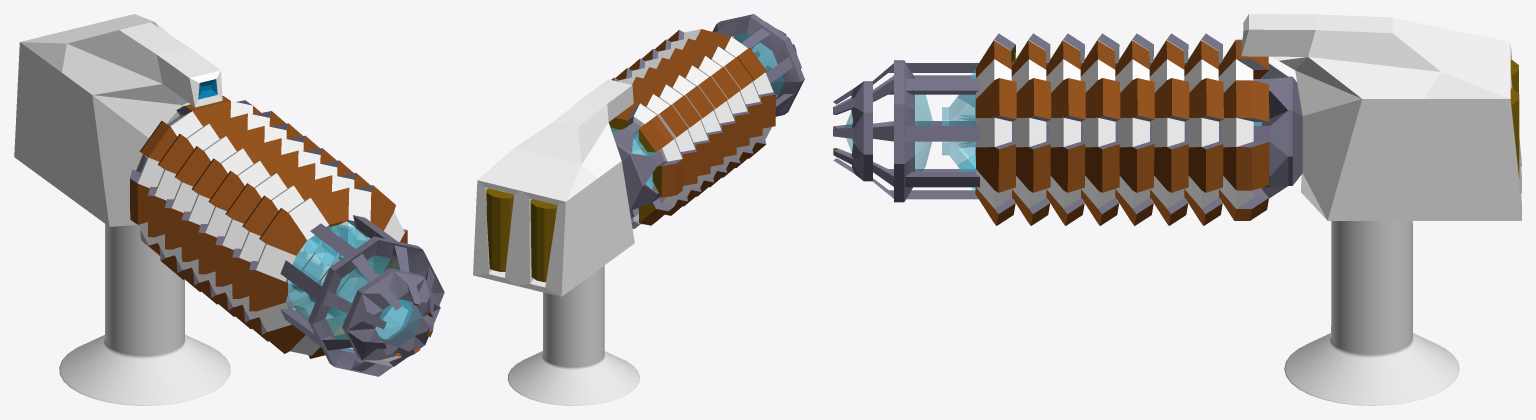
Rendered from turretThunder.fbx.
3 renders of one model, left to right at view 1: azimuth 30°, elevation 25°; view 2: azimuth 150°, elevation 25°; view 3: azimuth 270°, elevation 25°, orthographic. The views are drawn at different scales.
Parts seen in each view (by area): view 1: turret, Cylinder; view 2: turret, Cylinder; view 3: turret, Cylinder.
Part boxes in pixels (x1,y1,x2,y2): turret: (14, 14, 444, 376); Cylinder: (59, 224, 230, 405); turret: (473, 14, 804, 296); Cylinder: (507, 265, 639, 405); turret: (833, 14, 1521, 225); Cylinder: (1284, 221, 1459, 405).
Size of the model in its own units: 215 by 438 by 788.
